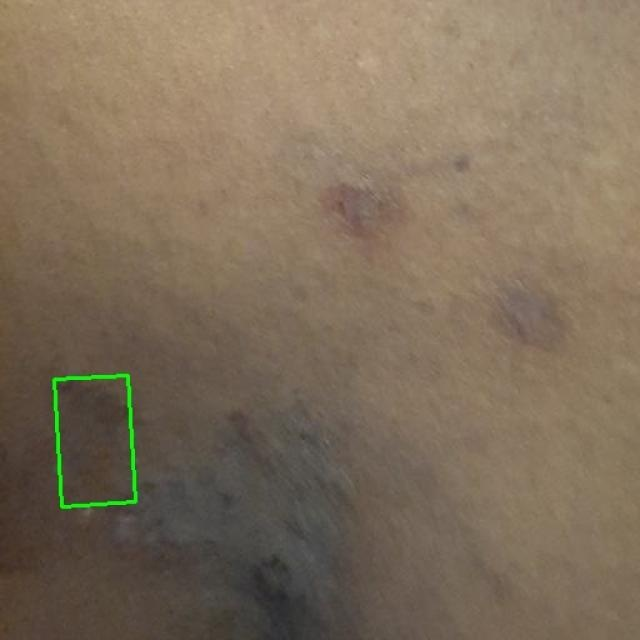Contact Dermatitis: (54, 375, 136, 507)
